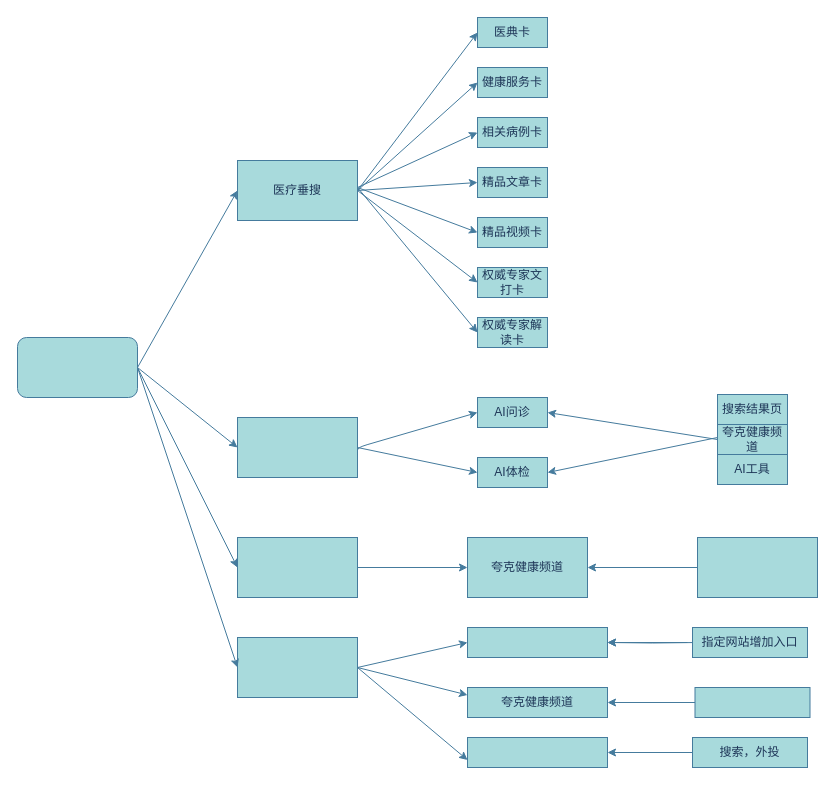
This 835x786 diagram has some shape labels left out. The centre of each missing label's shape, as x and y in pixels:
健康频道: the point at 297,567
医师节活动: the point at 537,752
医疗导流: the point at 297,667
医疗工具: the point at 297,447
外投广告: the point at 752,702
夸克: the point at 77,367
小程序: the point at 537,642
搜索: 导流: the point at 757,567
